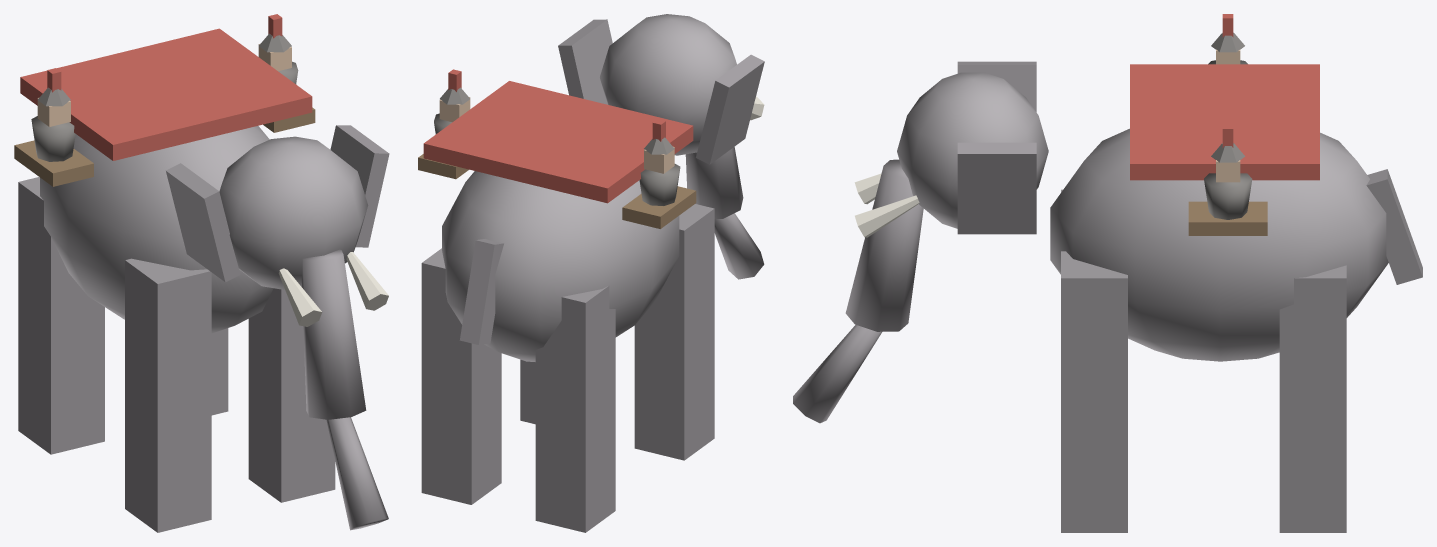
The model's file is troop-war-elephant.glb.
The picture shows the model from 3 angles, left to right: view 1: azimuth 30°, elevation 25°; view 2: azimuth 150°, elevation 25°; view 3: azimuth 270°, elevation 25°; orthographic projection. The views are drawn at different scales.
Visible parts, largest first — view 1: leg_fl, back_cloth, body, leg_bl, head, leg_fr, trunk, ear_l, trunk_tip, ear_r, rider0_seat, rider0 (+6 smaller); view 2: body, back_cloth, leg_bl, leg_fl, leg_br, head, ear_l, ear_r, tail, trunk, trunk_tip, rider0_seat (+5 smaller); view 3: body, back_cloth, leg_fr, leg_br, head, trunk, ear_r, trunk_tip, tail, rider1_seat, rider1, ear_l (+1 smaller).
Boxes of the visible parts, x1=… form: leg_fl: x1=125, y1=258, x2=211, y2=532; back_cloth: x1=20, y1=28, x2=312, y2=160; body: x1=40, y1=126, x2=273, y2=333; leg_bl: x1=18, y1=177, x2=104, y2=454; head: x1=219, y1=136, x2=368, y2=289; leg_fr: x1=248, y1=288, x2=335, y2=502; trunk: x1=301, y1=249, x2=366, y2=419; ear_l: x1=166, y1=163, x2=240, y2=282; trunk_tip: x1=326, y1=417, x2=388, y2=530; ear_r: x1=330, y1=125, x2=389, y2=247; rider0_seat: x1=14, y1=140, x2=93, y2=186; rider0: x1=31, y1=116, x2=75, y2=161; body: x1=442, y1=171, x2=679, y2=361; back_cloth: x1=423, y1=81, x2=693, y2=203; leg_bl: x1=535, y1=286, x2=615, y2=532; leg_fl: x1=634, y1=204, x2=714, y2=460; leg_br: x1=421, y1=248, x2=501, y2=504; head: x1=600, y1=14, x2=736, y2=155; ear_l: x1=696, y1=54, x2=764, y2=164; ear_r: x1=558, y1=19, x2=612, y2=104; tail: x1=459, y1=239, x2=503, y2=344; trunk: x1=685, y1=147, x2=743, y2=218; trunk_tip: x1=714, y1=213, x2=764, y2=279; rider0_seat: x1=622, y1=186, x2=696, y2=228; body: x1=1050, y1=128, x2=1388, y2=361; back_cloth: x1=1130, y1=64, x2=1319, y2=180; leg_fr: x1=1061, y1=251, x2=1127, y2=532; leg_br: x1=1279, y1=265, x2=1346, y2=532; head: x1=897, y1=72, x2=1048, y2=228; trunk: x1=845, y1=159, x2=923, y2=331; ear_r: x1=957, y1=142, x2=1036, y2=234; trunk_tip: x1=793, y1=325, x2=882, y2=423; tail: x1=1366, y1=169, x2=1422, y2=284; rider1_seat: x1=1188, y1=201, x2=1267, y2=235; rider1: x1=1204, y1=173, x2=1252, y2=219; ear_l: x1=957, y1=61, x2=1036, y2=111.
Bounding box in the file's own units: 0.204 × 0.303 × 0.4144.
